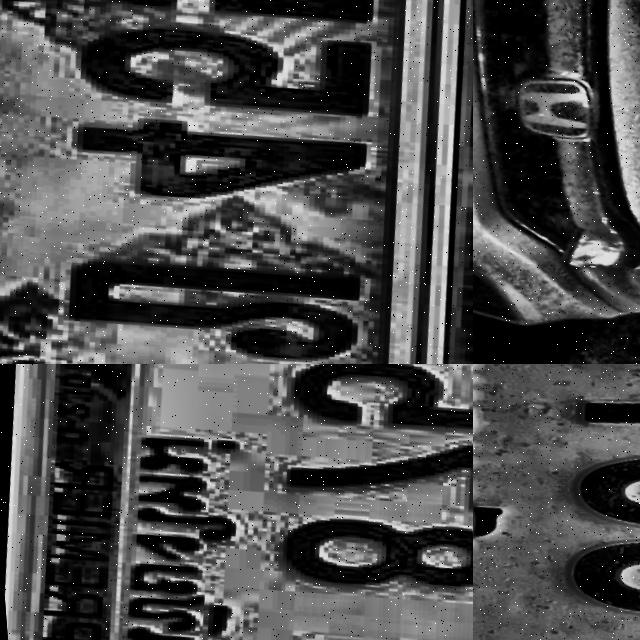license-plate: (0, 0, 473, 364), (0, 364, 473, 640), (473, 364, 640, 640)
